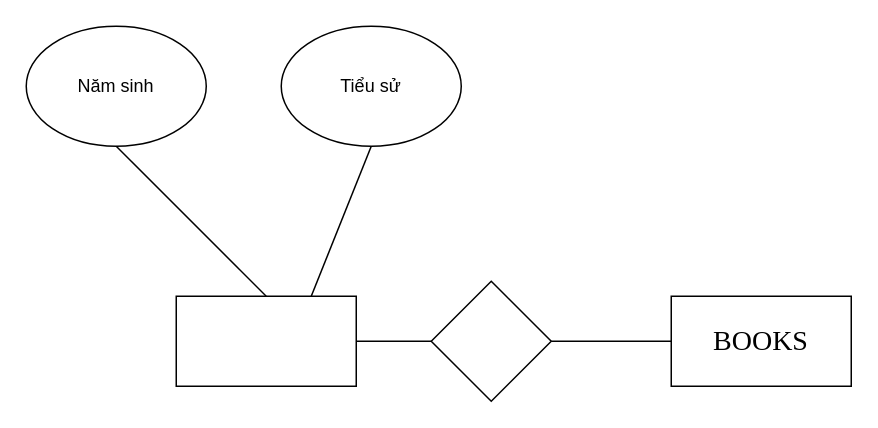
This 878x428 diagram has some shape labels left out. The shapes that lost their labels are listed below. From the top down, each one's centre as x and y in pixels, then its label:
At [265,340]: "AUTHORS".
At [490,340]: "Relationship".
